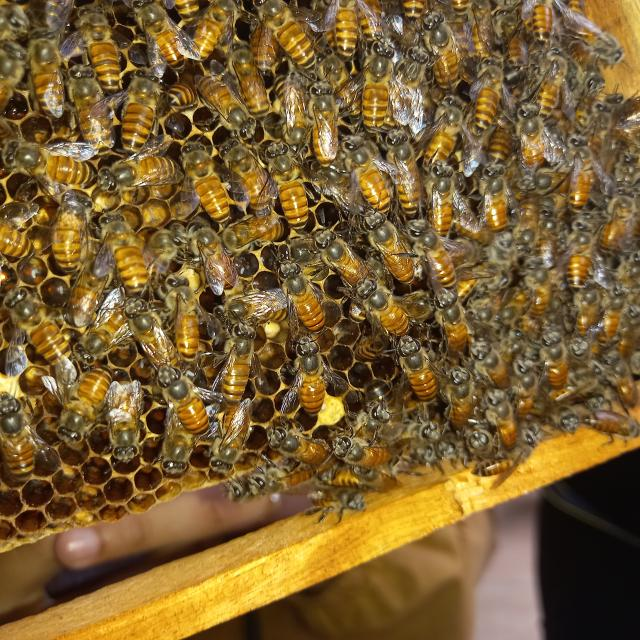honeybee: (2, 293, 76, 392), (49, 364, 122, 457), (2, 139, 113, 199), (249, 0, 332, 80), (66, 5, 134, 100), (128, 1, 193, 86), (363, 212, 432, 289), (216, 325, 272, 417), (93, 217, 154, 301), (73, 291, 139, 367), (65, 65, 121, 153), (114, 71, 169, 159), (210, 142, 280, 211), (216, 42, 272, 122), (262, 150, 315, 234), (208, 404, 266, 479), (512, 98, 572, 169), (197, 71, 256, 142), (123, 300, 176, 379), (153, 367, 212, 435), (289, 334, 339, 413), (421, 288, 479, 354), (353, 42, 399, 125), (108, 383, 154, 465), (0, 391, 41, 479), (414, 223, 462, 298), (159, 398, 205, 476), (428, 163, 475, 239), (24, 29, 63, 120), (468, 49, 506, 142), (345, 144, 389, 222), (562, 10, 624, 65), (416, 13, 458, 92), (360, 280, 416, 339), (187, 147, 232, 220), (183, 0, 230, 69), (215, 290, 298, 329), (533, 360, 600, 408), (564, 130, 604, 210), (46, 195, 88, 271), (302, 84, 343, 161), (382, 128, 416, 220), (107, 164, 183, 205), (469, 162, 516, 228), (190, 224, 234, 294), (163, 286, 204, 361), (400, 341, 444, 410), (234, 24, 292, 76), (314, 56, 356, 124), (276, 266, 322, 328), (562, 220, 598, 297), (320, 236, 370, 291), (477, 383, 518, 448), (524, 56, 571, 112), (597, 185, 640, 243), (64, 267, 106, 326), (144, 229, 187, 286), (524, 1, 568, 56), (519, 262, 558, 323), (333, 432, 393, 471), (448, 368, 480, 440), (464, 342, 508, 394), (602, 85, 640, 145), (397, 46, 425, 127), (273, 430, 332, 468), (327, 1, 366, 58), (424, 102, 454, 176), (224, 216, 289, 250), (0, 199, 35, 262), (348, 399, 392, 449), (506, 357, 537, 423), (606, 345, 640, 405), (583, 409, 640, 444), (456, 264, 507, 302), (0, 28, 21, 120), (477, 446, 533, 479), (284, 82, 315, 140), (382, 446, 438, 478), (463, 4, 495, 59), (576, 70, 606, 127), (541, 332, 571, 388), (325, 469, 389, 495), (504, 195, 536, 247), (500, 2, 526, 63), (248, 470, 326, 490), (314, 486, 366, 516), (547, 403, 591, 438), (600, 283, 627, 337), (8, 0, 38, 44), (468, 290, 498, 332), (463, 422, 497, 457), (620, 306, 640, 365), (530, 219, 558, 261), (358, 0, 388, 39), (484, 104, 503, 165), (36, 0, 64, 41), (501, 285, 525, 332), (224, 469, 254, 506), (442, 236, 492, 258), (158, 86, 195, 115), (488, 122, 514, 162), (410, 418, 449, 443), (574, 286, 594, 334), (613, 151, 640, 185), (532, 163, 559, 190), (391, 0, 415, 30), (356, 339, 386, 362), (368, 381, 397, 404), (542, 194, 563, 224), (572, 340, 590, 364)
